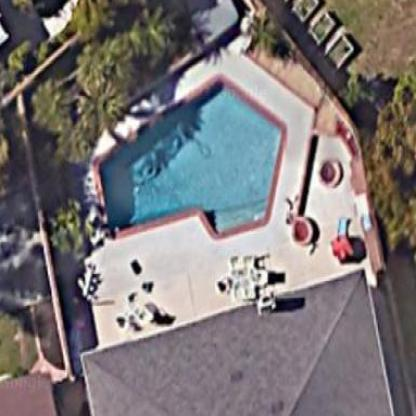pool: (81, 64, 289, 254)
